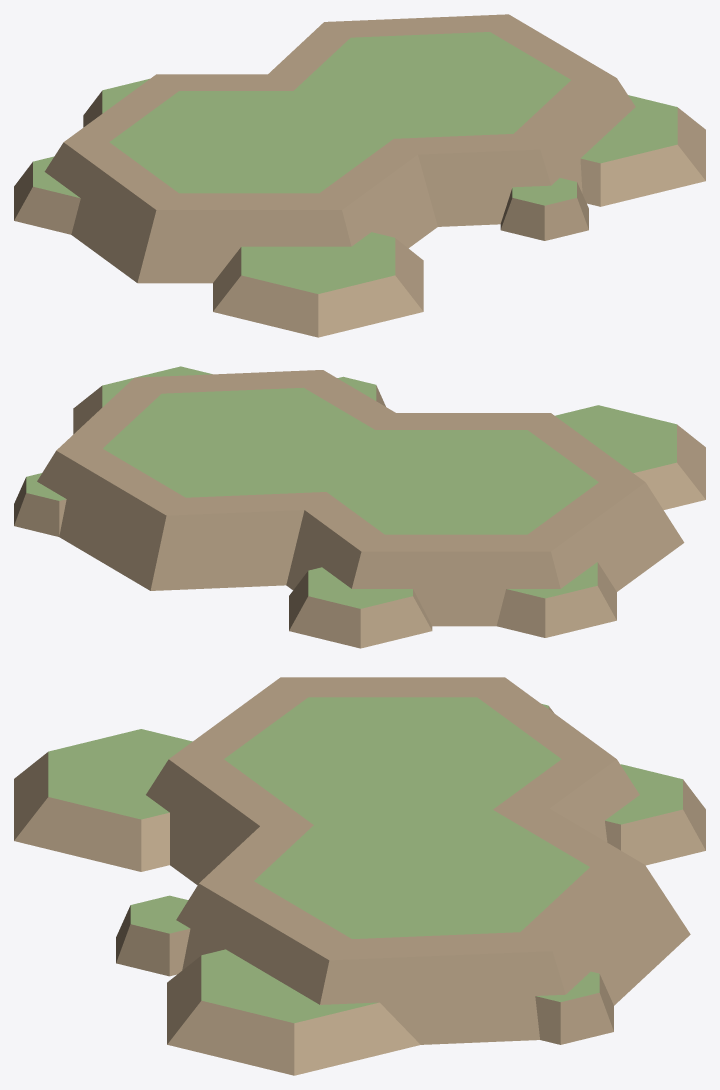
Rendered from platform_grass.glb.
The picture shows the model from 3 angles, top to bottom: view 1: azimuth 30°, elevation 25°; view 2: azimuth 150°, elevation 25°; view 3: azimuth 270°, elevation 25°; orthographic projection. The views are drawn at different scales.
Parts seen in each view (by area): view 1: platform_grass; view 2: platform_grass; view 3: platform_grass.
Part boxes in pixels (x1,y1,x2,y2): platform_grass: (14, 14, 705, 337); platform_grass: (14, 366, 705, 648); platform_grass: (14, 677, 705, 1075).
Size of the model in its own units: 0.8932 by 0.0825 by 0.7239.
